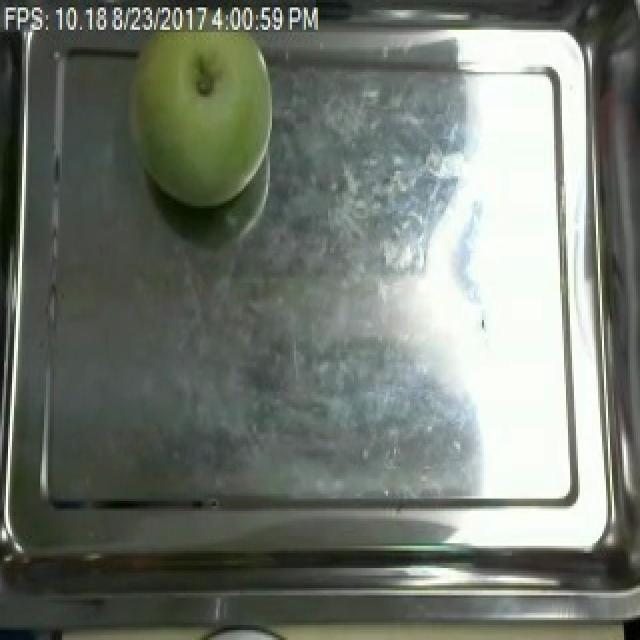50-_ripeness: (132, 5, 288, 210)
